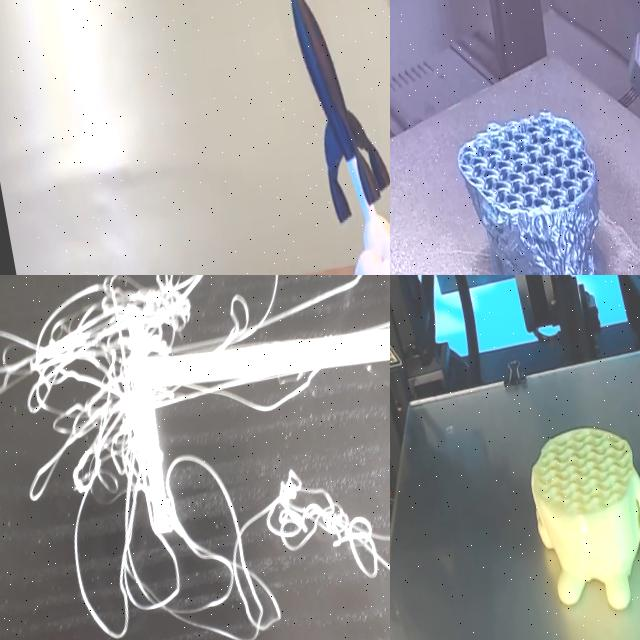spaghetti: (0, 275, 390, 640), (174, 419, 390, 640)
